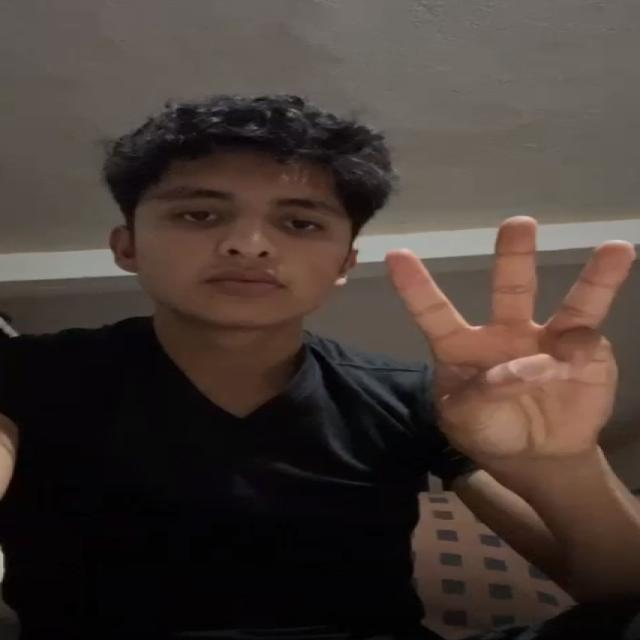W: (362, 201, 640, 467)
